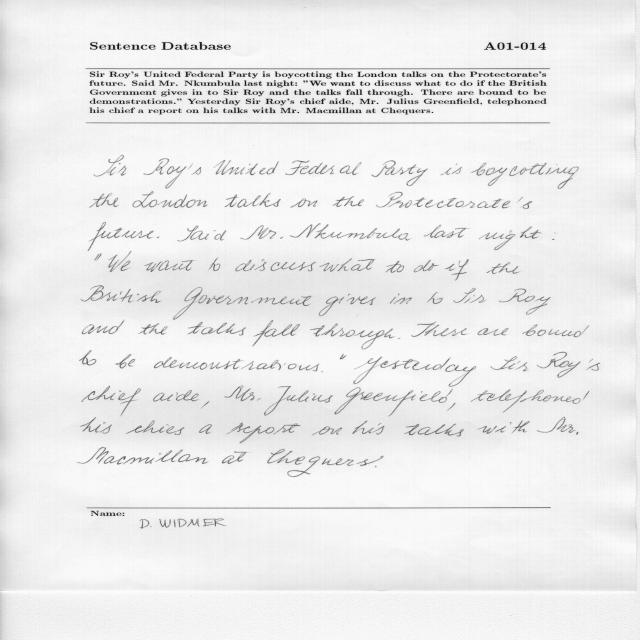word: (173, 287, 312, 320), (353, 357, 476, 387), (334, 388, 453, 417), (267, 449, 384, 477), (471, 163, 578, 189), (471, 390, 590, 413), (376, 192, 532, 209), (154, 357, 319, 371), (78, 448, 209, 465), (311, 324, 395, 350), (290, 223, 411, 241), (264, 386, 333, 416), (88, 222, 154, 251), (82, 386, 141, 416), (143, 159, 201, 189), (537, 352, 600, 378), (227, 423, 301, 444), (319, 294, 388, 316), (479, 226, 542, 250), (371, 161, 428, 186), (81, 286, 161, 303), (499, 289, 551, 315), (252, 320, 300, 347), (133, 192, 208, 208), (286, 160, 362, 175), (214, 160, 279, 175), (235, 260, 316, 272), (411, 321, 468, 337), (522, 325, 589, 338), (127, 420, 185, 435), (225, 193, 281, 208), (178, 226, 227, 242), (319, 258, 375, 272), (404, 424, 464, 437), (187, 322, 246, 335), (537, 417, 579, 435), (478, 420, 530, 434), (94, 155, 127, 177), (240, 225, 284, 240), (144, 260, 194, 272), (83, 320, 125, 334), (424, 225, 469, 238), (490, 356, 528, 371), (225, 386, 262, 401), (153, 390, 199, 402), (444, 259, 469, 281), (81, 417, 112, 434), (453, 288, 486, 303), (352, 420, 385, 435), (109, 251, 132, 272), (90, 193, 119, 208), (486, 262, 520, 274), (138, 323, 167, 335), (333, 196, 364, 207), (222, 451, 248, 464), (414, 260, 439, 272), (116, 354, 136, 368), (312, 427, 342, 436), (388, 294, 412, 305), (80, 351, 97, 366), (290, 199, 318, 208), (440, 164, 462, 175), (386, 261, 404, 273), (478, 328, 508, 335), (427, 292, 443, 304), (209, 258, 220, 271), (199, 424, 212, 434), (447, 403, 456, 411), (201, 401, 210, 408), (95, 254, 102, 261), (340, 355, 346, 360), (157, 237, 159, 238), (553, 239, 555, 240), (398, 338, 400, 339), (321, 371, 323, 372), (375, 466, 376, 467)
